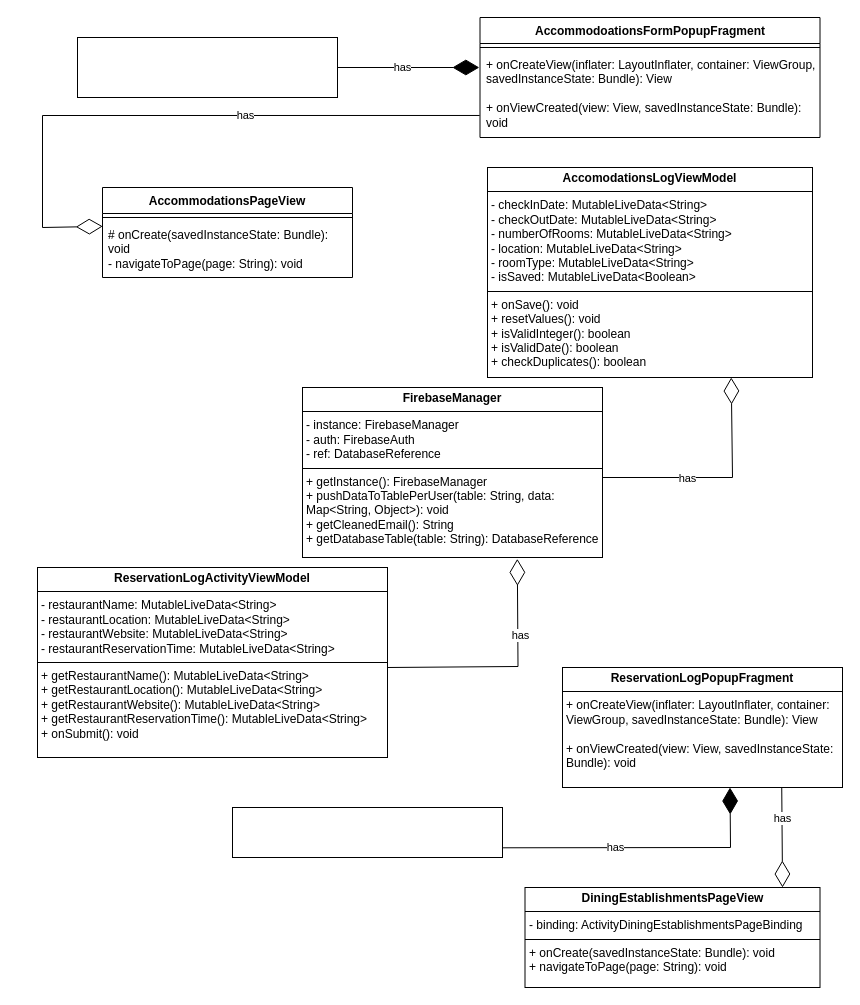
The diagram is 860 pixels wide and 1005 high, and some of its shapes have lost their labels. Here are the shapes that lost their labels. From the top down, the centre of each, then its label:
At point 207,67: "AccommodationsLogActivity # onCreate(savedInstanceState: Bundle): void".
At point 367,832: "ReservationLog + onCreate(savedInstanceState: Bundle): void".
